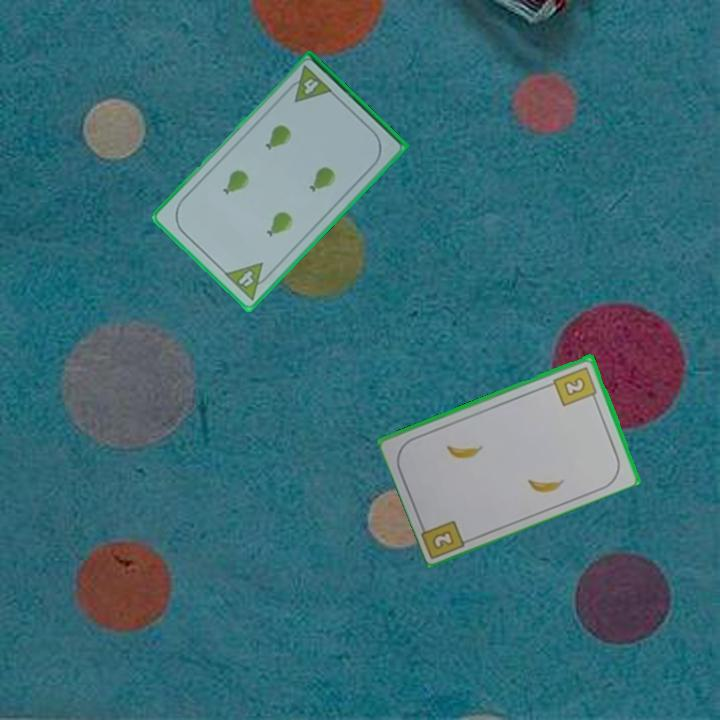2b: (550, 363, 600, 409), (429, 526, 458, 552)
4p: (221, 259, 275, 303), (282, 62, 335, 105)
